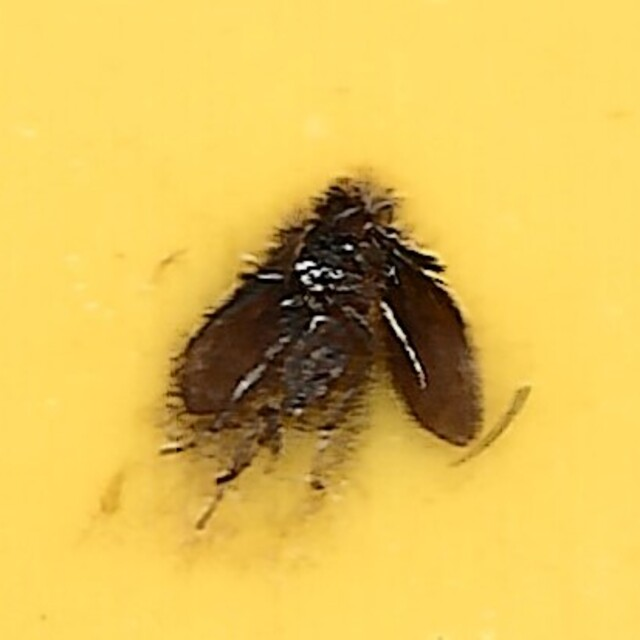Lepidoptera: (155, 176, 485, 464)
